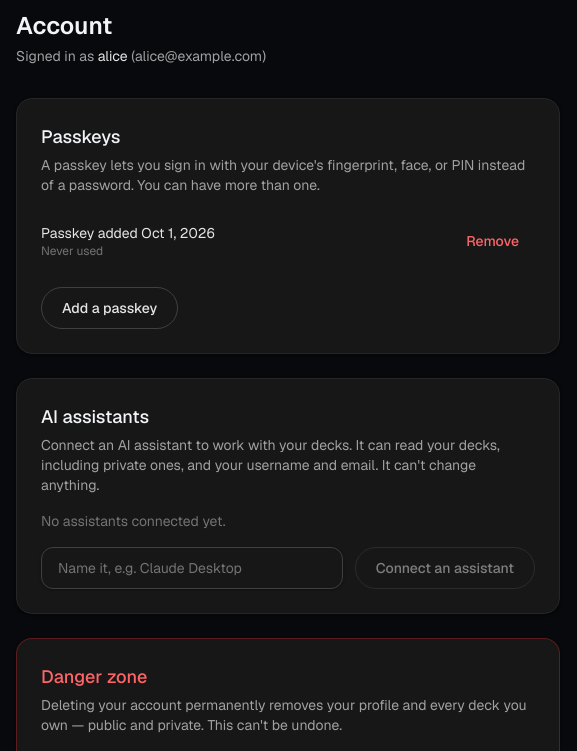
Test: account page: removing a passkey › keeps the row and shows an error when the delete fails
Click the button "Remove" at (493, 241), box [450,223,535,259]
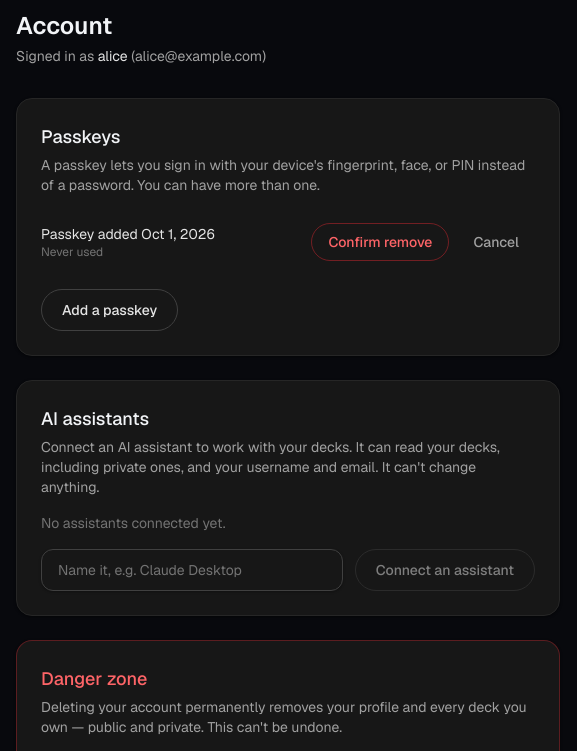
Click the button "Confirm remove" at (380, 242), box [311,223,449,261]
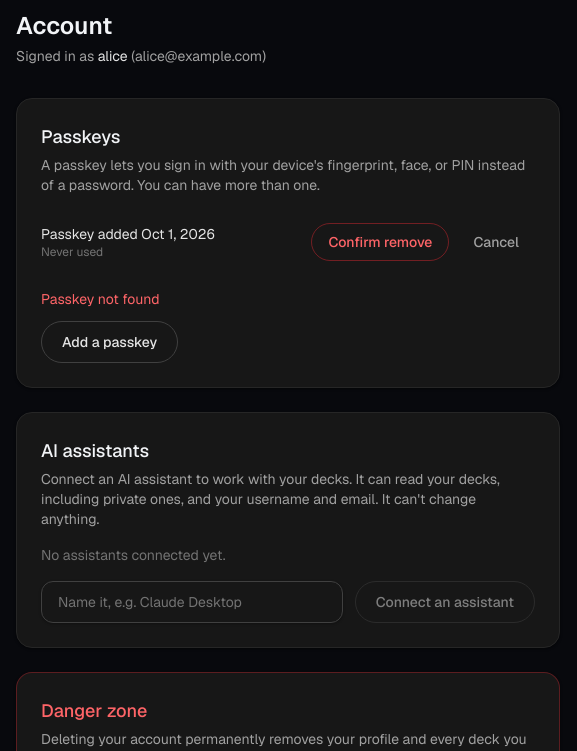
Expected: the list item shows "Never used", [41,244,103,260]
Expected: the text "Passkey not found" is shown, [41,290,160,308]
